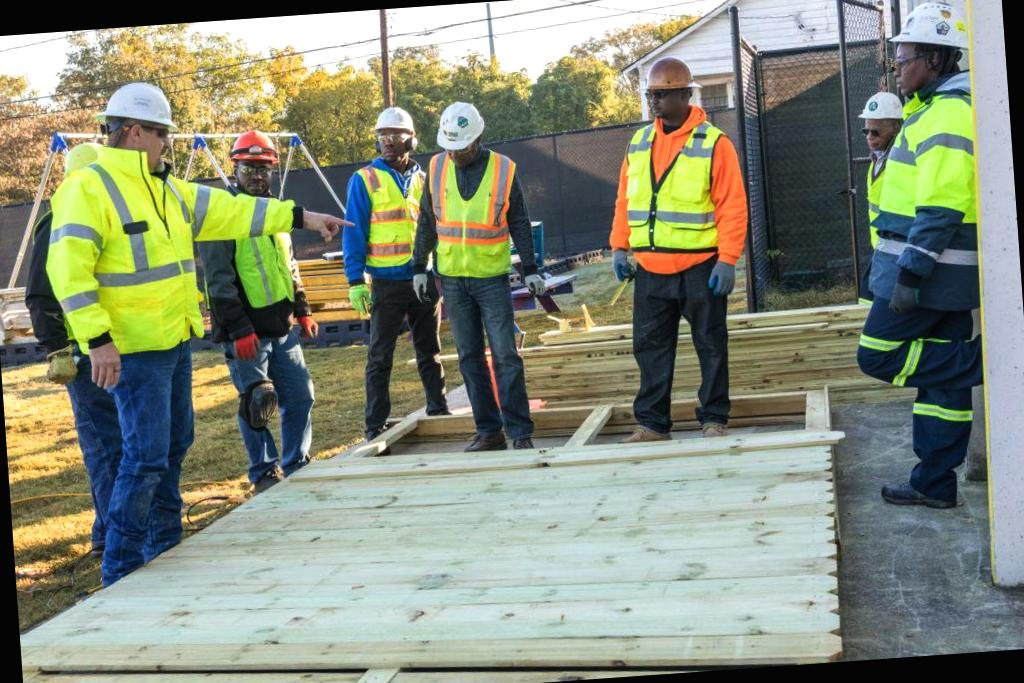helmet: (92, 75, 179, 128), (880, 4, 968, 54), (226, 132, 285, 199), (428, 94, 493, 150), (358, 98, 433, 141), (637, 51, 705, 97)
person: (50, 73, 222, 592), (838, 0, 995, 520), (591, 42, 769, 451), (418, 89, 556, 458), (196, 127, 324, 480), (340, 102, 446, 440)
